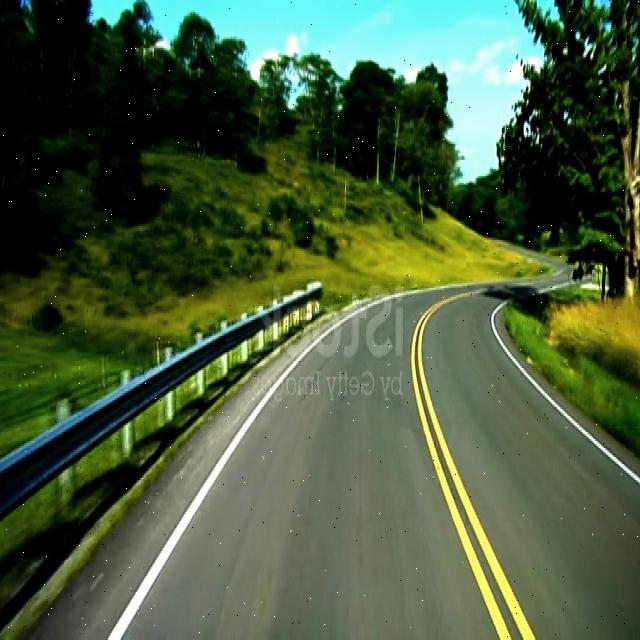lane: (110, 316, 351, 640), (412, 290, 535, 638), (412, 290, 534, 638), (490, 298, 640, 483)
road: (31, 286, 640, 636)
